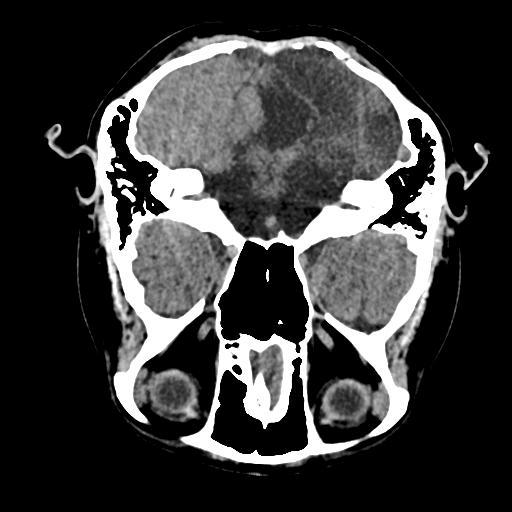Cancer: (227, 46, 357, 157)
